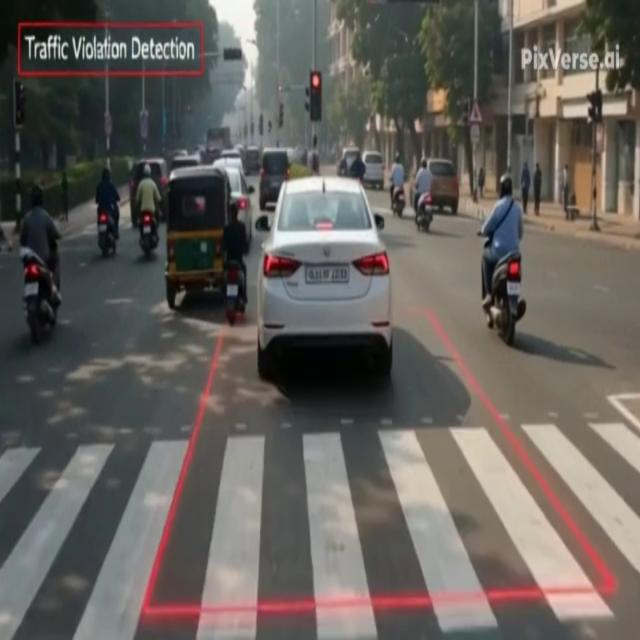car: (255, 176, 392, 379), (130, 158, 168, 227), (225, 167, 254, 253), (259, 148, 290, 211), (427, 159, 459, 215), (363, 151, 384, 189), (337, 147, 359, 175), (170, 154, 201, 171), (213, 156, 243, 172), (245, 146, 260, 175), (220, 149, 241, 159)
traffic signal: (13, 80, 26, 129), (309, 71, 321, 121), (586, 89, 602, 123), (460, 99, 471, 126), (223, 48, 242, 60), (305, 87, 310, 112), (278, 104, 283, 128), (259, 113, 263, 135), (250, 120, 254, 137), (268, 120, 272, 133), (244, 125, 247, 140)
truck: (205, 127, 231, 163)
